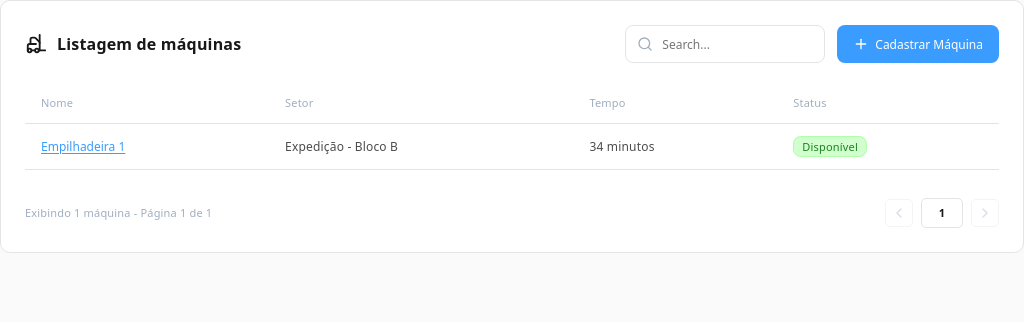
Test: MachineTable › shows empty message, 0 machines count, and disables both arrows when search has no results
This screenshot has width=1024, height=322.
Type "inexistente" into the search field named "Buscar máquinas" at (725, 44), box [625,25,825,63]
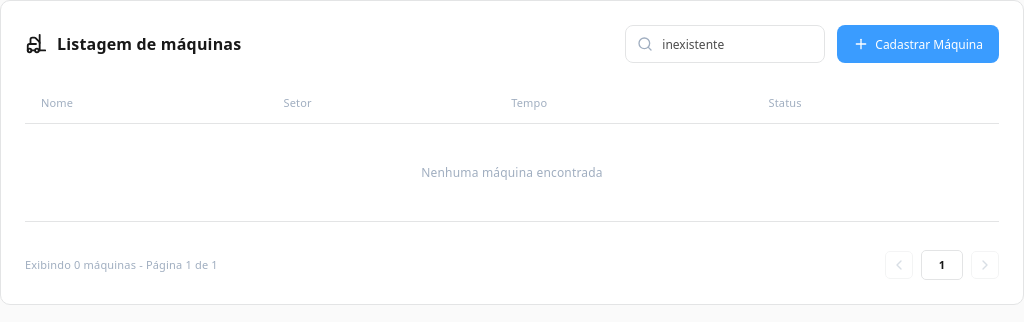
Expected: the button named "Página anterior" is disabled, [885,251,913,279]
Now the text "Nenhuma máquina encontrada" is shown, box [25,123,999,222]
Now the text "Exibindo 0 máquinas - Página 1 de 1" is shown, box [25,257,218,273]
